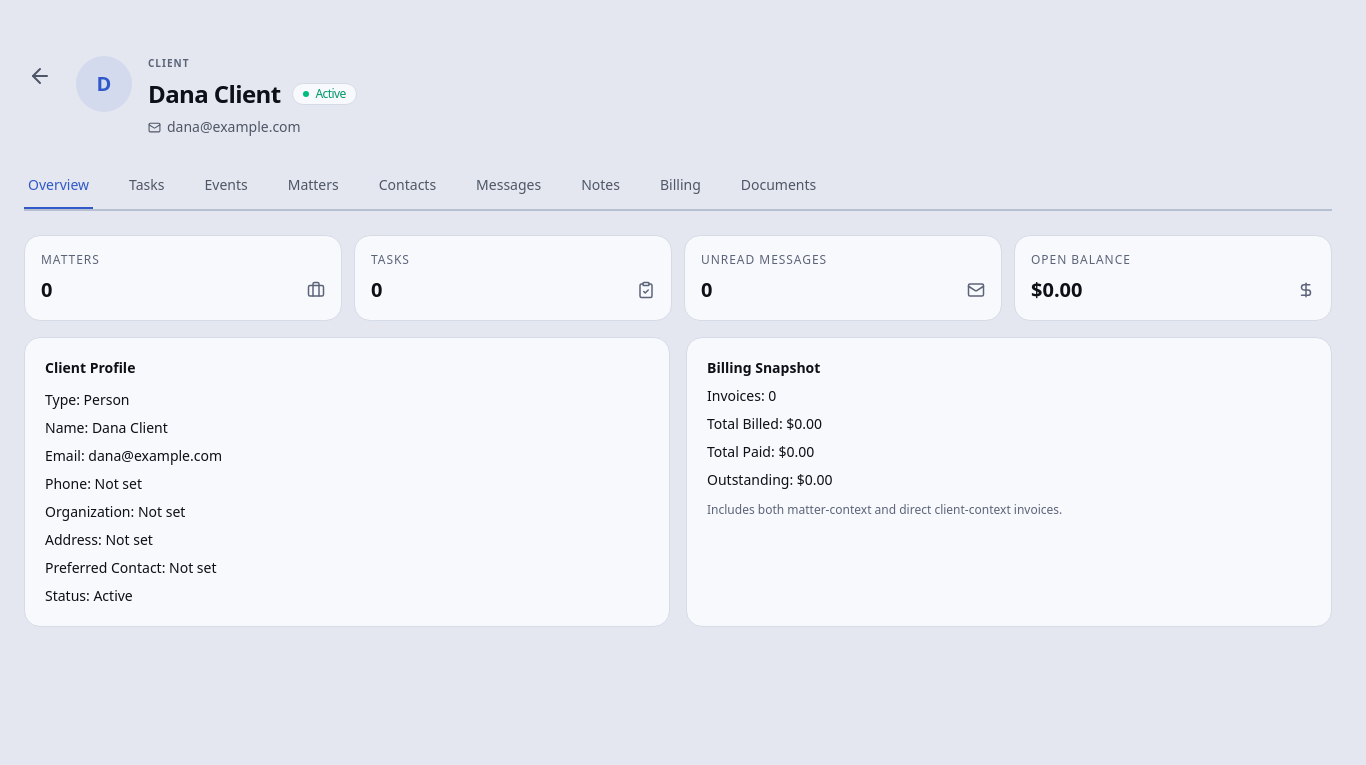
Test: hides Create Invoice from a member who can only read invoices
The width and height of the screenshot is (1366, 765).
What coordinates should you click on to do the following:
click the button "Billing"
I would click on:
 (680, 186)
Its box is [656,163,705,209].
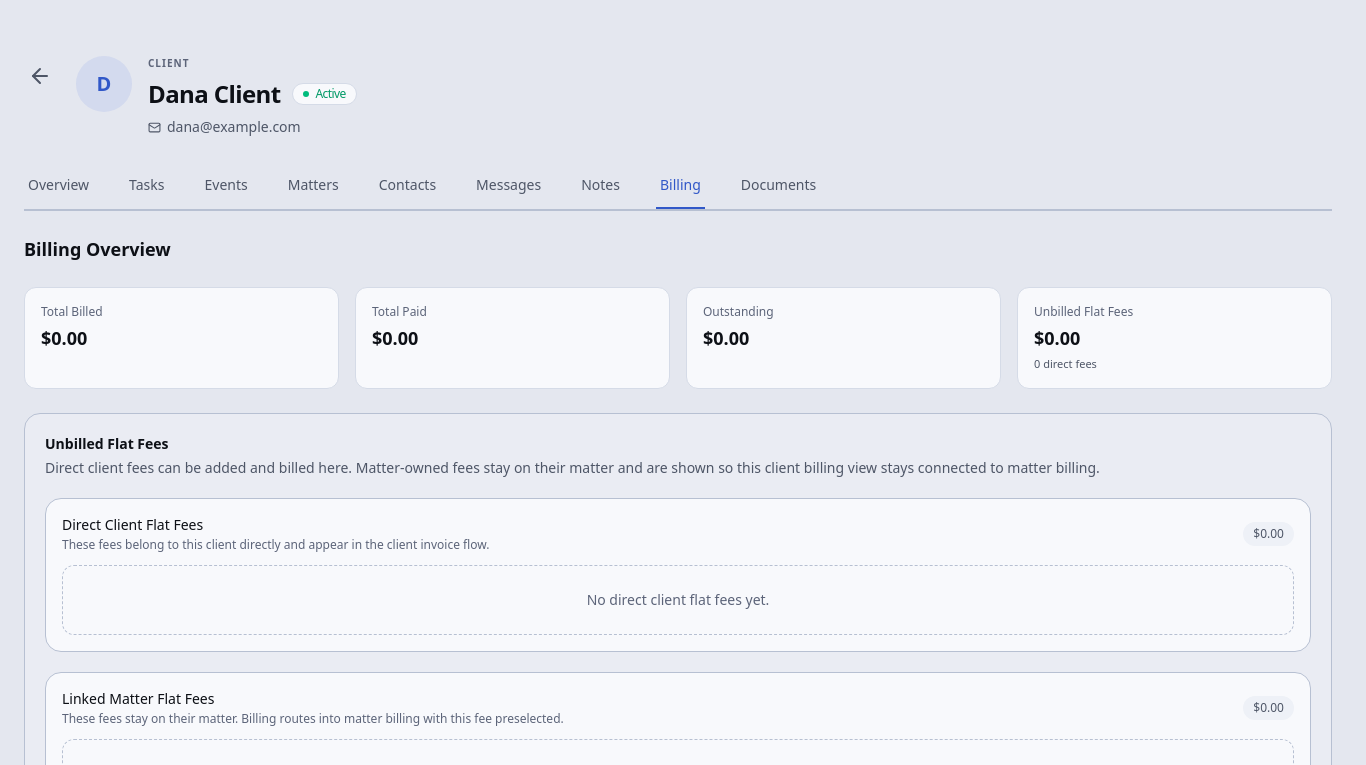
Check: the heading "Billing Overview" is shown, box [24,235,171,263]
